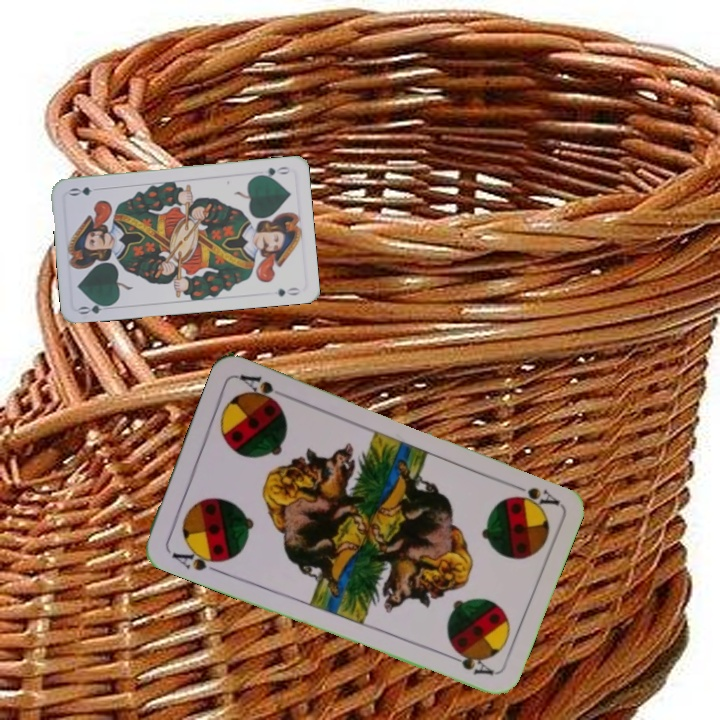GO: (75, 298, 116, 317), (253, 163, 293, 181)
SA: (167, 542, 227, 576), (504, 478, 561, 510)
